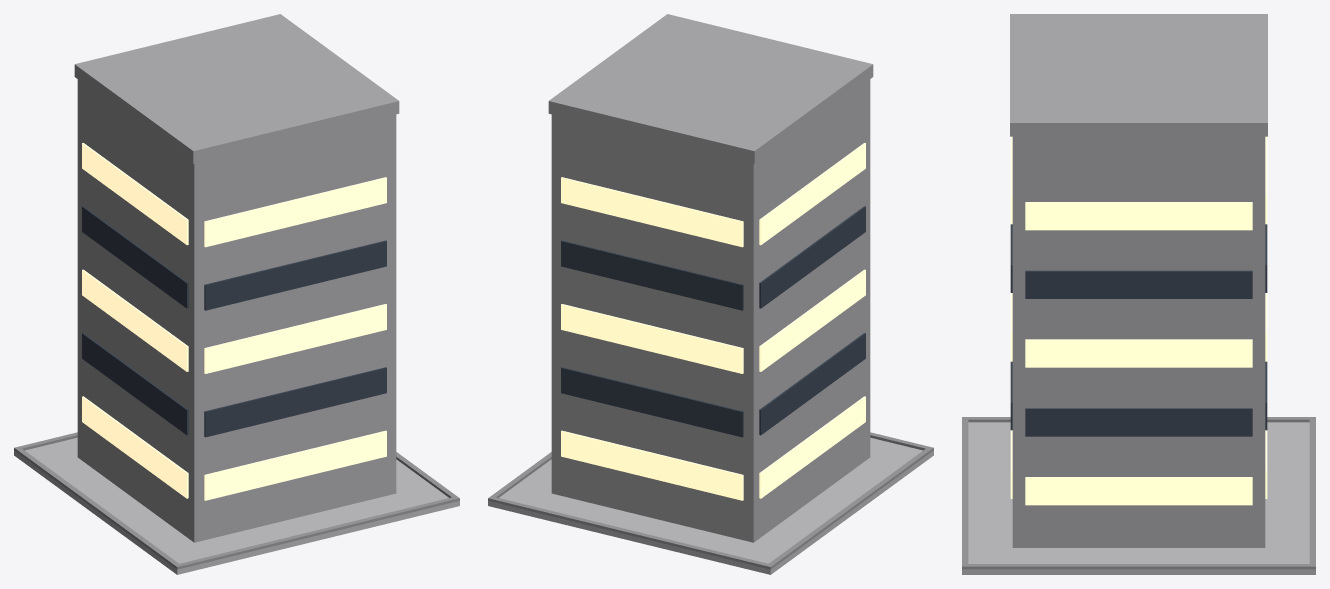
The model's file is bt-midrise-1.glb.
3 renders of one model, left to right at view 1: azimuth 30°, elevation 25°; view 2: azimuth 150°, elevation 25°; view 3: azimuth 270°, elevation 25°, orthographic. The views are drawn at different scales.
Visible parts, largest first — view 1: body, parapet, skirt_slab, band_s_3, band_s_1, band_s_0, band_s_4, band_s_2, band_w_3, band_w_0, band_w_1, band_w_2 (+3 smaller); view 2: body, parapet, skirt_slab, band_n_3, band_n_1, band_n_0, band_n_4, band_n_2, band_w_3, band_w_0, band_w_1, band_w_2 (+3 smaller); view 3: body, parapet, skirt_slab, band_e_0, band_e_1, band_e_2, band_e_3, band_e_4, skirt_curb_e, skirt_curb_n, skirt_curb_s, skirt_curb_w.
Part boxes in pixels (bbox=[...]): body: bbox=[77, 79, 396, 542]; parapet: bbox=[74, 14, 399, 163]; skirt_slab: bbox=[14, 437, 459, 574]; band_s_3: bbox=[204, 240, 386, 310]; band_s_1: bbox=[204, 367, 386, 437]; band_s_0: bbox=[204, 430, 386, 500]; band_s_4: bbox=[204, 177, 386, 247]; band_s_2: bbox=[204, 304, 386, 373]; band_w_3: bbox=[82, 206, 188, 308]; band_w_0: bbox=[82, 396, 188, 498]; band_w_1: bbox=[82, 333, 188, 435]; band_w_2: bbox=[82, 269, 188, 371]; body: bbox=[551, 79, 870, 542]; parapet: bbox=[548, 14, 873, 163]; skirt_slab: bbox=[488, 437, 933, 574]; band_n_3: bbox=[561, 240, 743, 310]; band_n_1: bbox=[561, 367, 743, 437]; band_n_0: bbox=[561, 430, 743, 500]; band_n_4: bbox=[561, 177, 743, 247]; band_n_2: bbox=[561, 304, 743, 373]; band_w_3: bbox=[759, 206, 865, 308]; band_w_0: bbox=[759, 396, 865, 498]; band_w_1: bbox=[759, 333, 865, 435]; band_w_2: bbox=[759, 269, 865, 371]; body: bbox=[1012, 136, 1265, 547]; parapet: bbox=[1010, 14, 1267, 136]; skirt_slab: bbox=[962, 422, 1315, 574]; band_e_0: bbox=[1025, 477, 1252, 505]; band_e_1: bbox=[1025, 408, 1252, 436]; band_e_2: bbox=[1025, 339, 1252, 367]; band_e_3: bbox=[1025, 270, 1252, 298]; band_e_4: bbox=[1025, 202, 1252, 230]; skirt_curb_e: bbox=[968, 564, 1309, 569]; skirt_curb_n: bbox=[1309, 417, 1315, 569]; skirt_curb_s: bbox=[962, 417, 968, 569]; skirt_curb_w: bbox=[968, 417, 1309, 422].
Size of the model in its own units: 14 by 18.85 by 14.
